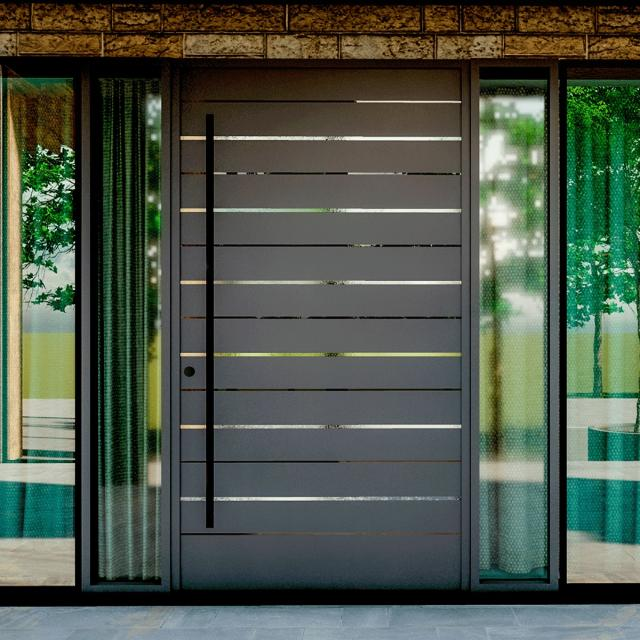door: (175, 62, 470, 592)
